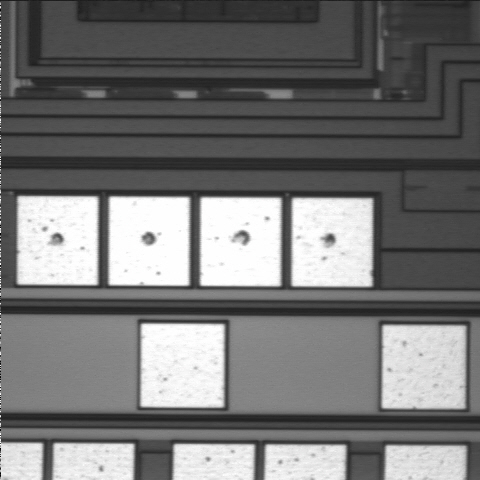pad: (17, 196, 98, 285), (109, 197, 190, 286), (200, 197, 281, 286), (292, 198, 373, 287), (141, 324, 224, 408), (382, 325, 465, 409)
